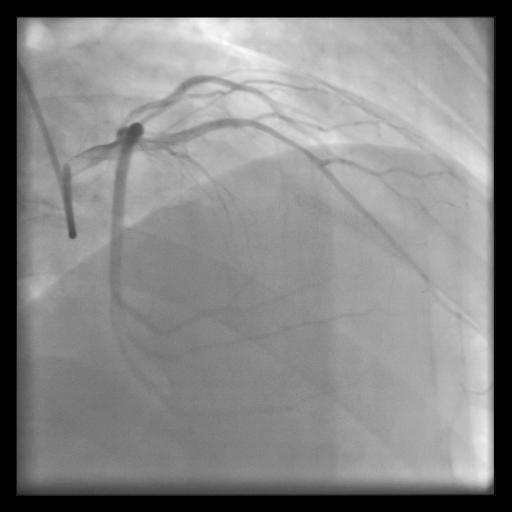Stenosis: (114, 100, 163, 118)
